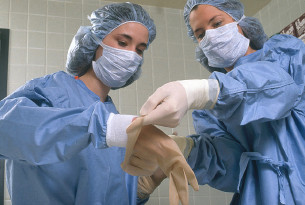face_mask: (93, 22, 149, 90), (190, 6, 244, 68)
